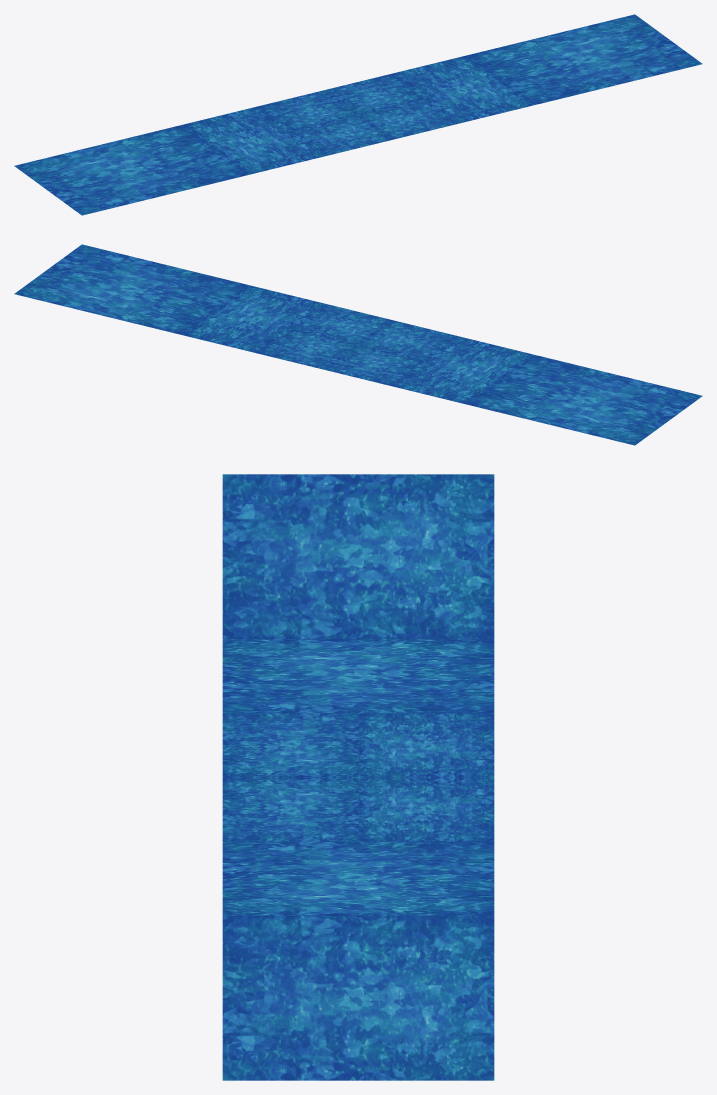
File: bridge_sea.fbx
The picture shows the model from 3 angles, top to bottom: view 1: azimuth 30°, elevation 25°; view 2: azimuth 150°, elevation 25°; view 3: azimuth 270°, elevation 25°; orthographic projection. The views are drawn at different scales.
Parts seen in each view (by area): view 1: bridge_sea, bridge_sea_in; view 2: bridge_sea, bridge_sea_in; view 3: bridge_sea, bridge_sea_in.
Part boxes in pixels (x1,y1,x2,y2): bridge_sea: (14, 14, 702, 215); bridge_sea_in: (259, 74, 457, 155); bridge_sea: (14, 244, 702, 445); bridge_sea_in: (259, 304, 457, 385); bridge_sea: (222, 474, 494, 1080); bridge_sea_in: (222, 713, 494, 841).
Bounding box in the file's own units: 52756 × 0 × 10000.
